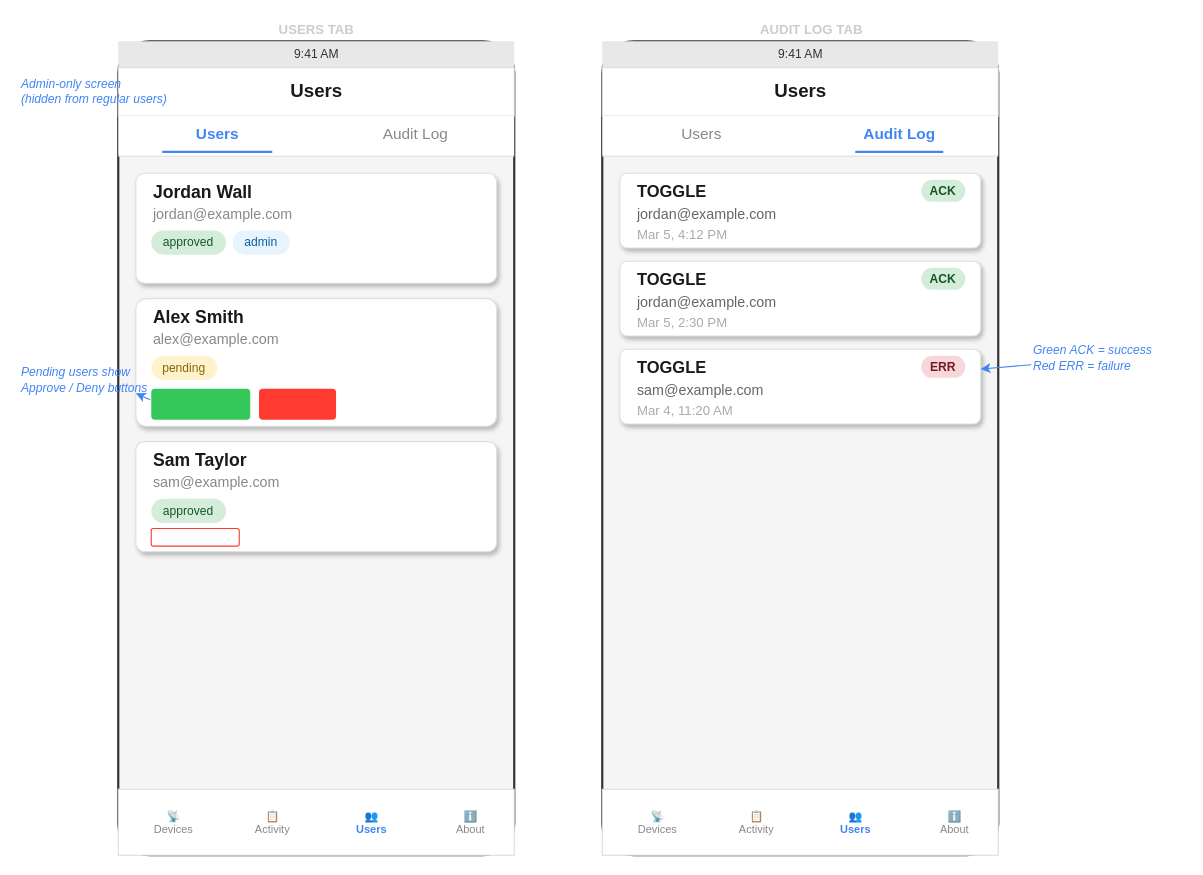
The diagram is 1203 pixels wide and 875 high, and some of its shapes have lost their labels. Each missing label, with the centre of its shape:
"Approve" goes at [200,403].
"Deny" goes at [297,403].
"Remove" goes at [194,536].
